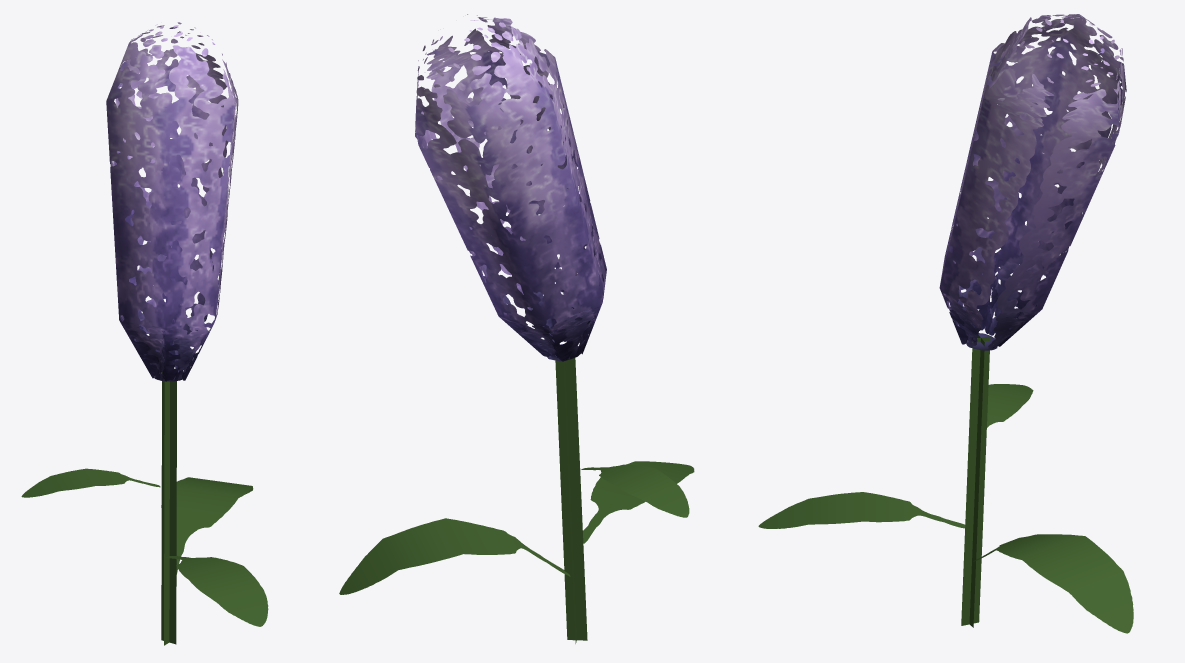
Rendered from Flower.fbx.
3 renders of one model, left to right at view 1: azimuth 30°, elevation 25°; view 2: azimuth 150°, elevation 25°; view 3: azimuth 270°, elevation 25°, orthographic. The views are drawn at different scales.
Parts seen in each view (by area): view 1: polySurface48; view 2: polySurface48; view 3: polySurface48.
Part boxes in pixels (bbox=[...]): polySurface48: bbox=[21, 22, 268, 645]; polySurface48: bbox=[339, 14, 694, 643]; polySurface48: bbox=[758, 14, 1133, 633].
Bounding box in the file's own units: 4.78 × 8.78 × 5.2.
